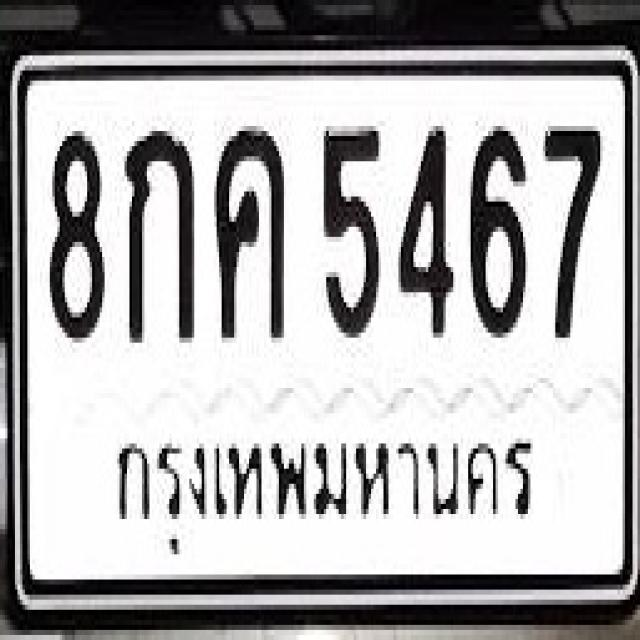license_plate: (10, 40, 640, 620)
